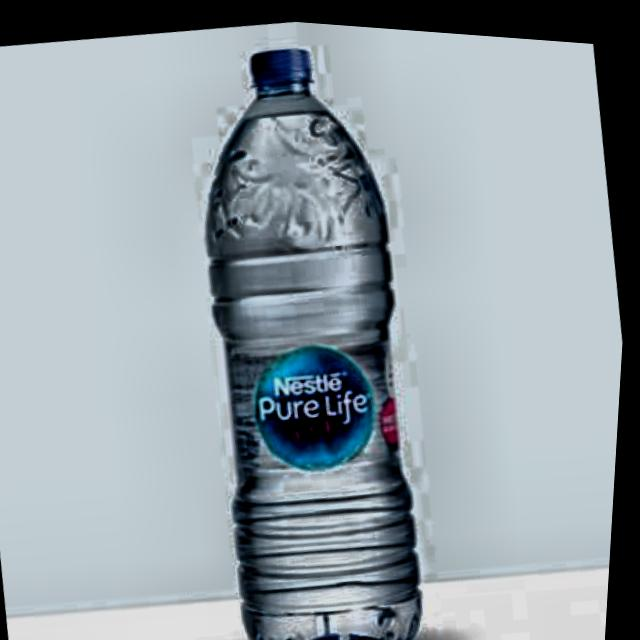Bottles: (150, 17, 480, 640)
